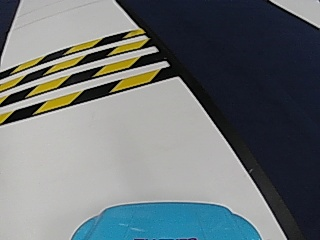bump: (7, 35, 145, 111)
